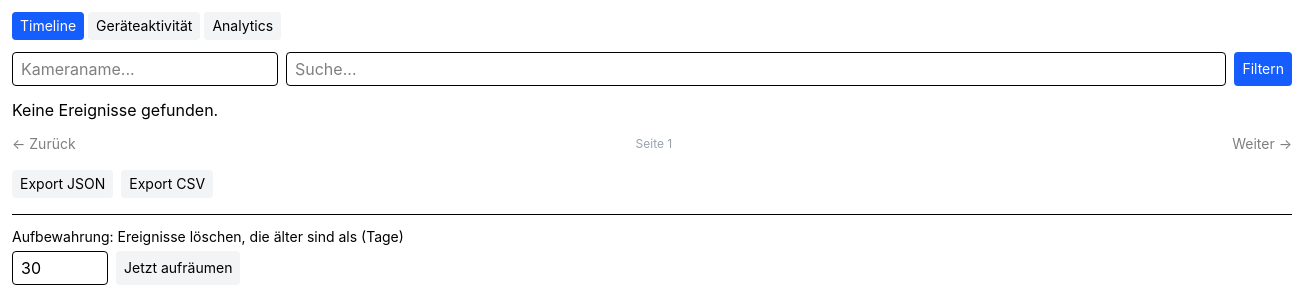
Test case: EventPlatform › switches to device activity and shows aggregated counts
Click the tab "Geräteaktivität".
click(144, 26)  # box [88,12,200,40]
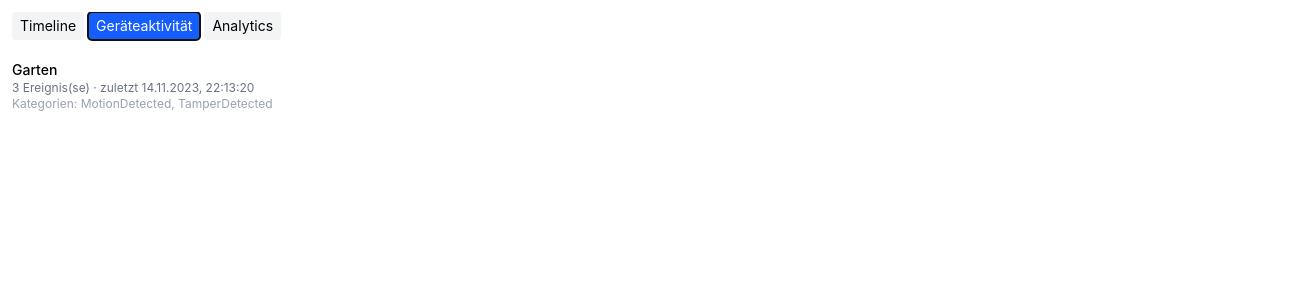
Expected: the text "Garten" is shown, [12,61,57,78]
Expected: the text "3 Ereignis(se) · zuletzt 14.11.2023, 22:13:20" is shown, [12,80,254,95]
